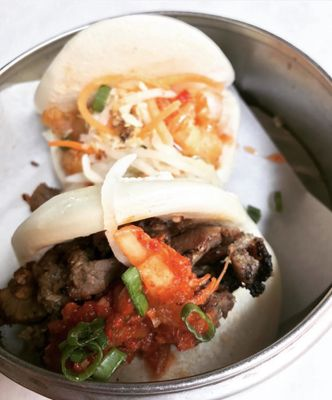soup: (7, 155, 282, 394)
